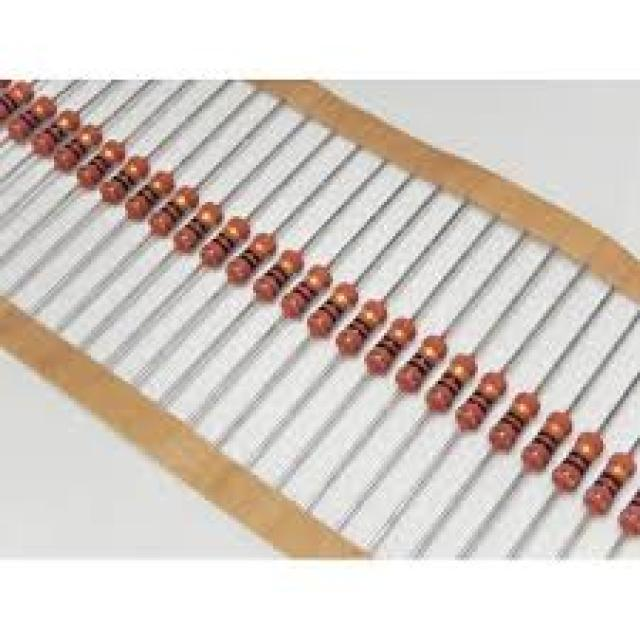Resistor: (458, 370, 510, 431), (174, 200, 227, 252), (199, 215, 250, 267), (255, 249, 305, 301), (101, 154, 152, 204), (126, 172, 175, 220)
